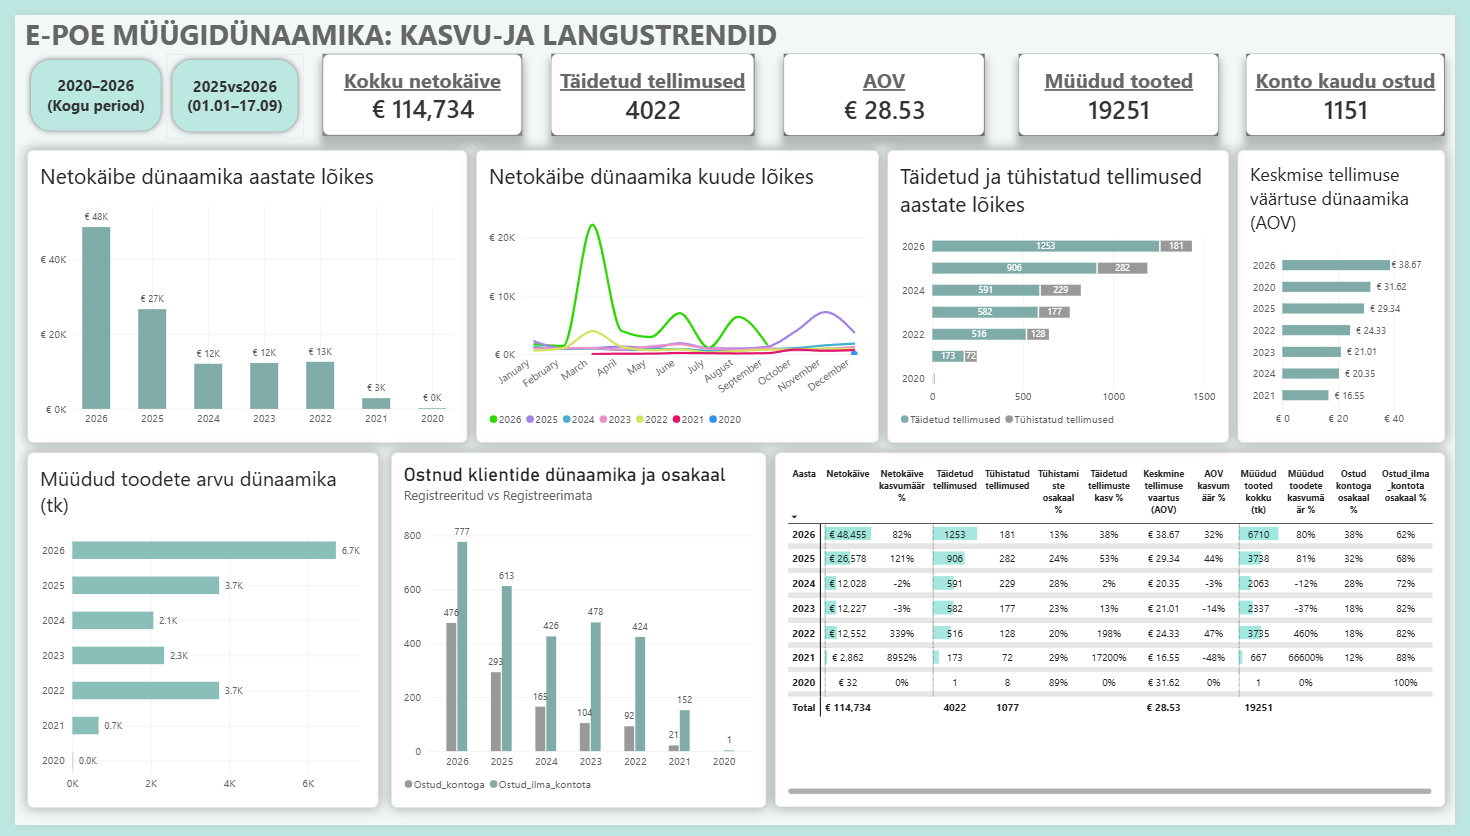

What the dashboard file says about the page in this screenshot:
{"tool":"powerbi","page":{"name":"E-POE MÜÜGIDÜNAAMIKA","canvas":[1920,1080],"ordinal":0},"visuals":[{"type":"cardVisual","fields":{"Data":["Arvutused.Täidetud tellimused"]},"box":[715.4,52.3,270.9,109.3],"z":2000},{"type":"cardVisual","fields":{"Data":["Arvutused.Muudud tooted kokku"]},"box":[1337.6,50.9,266.1,109.3],"z":5000},{"type":"cardVisual","fields":{"Data":["Arvutused.Ostud_kontoga"]},"box":[1641.2,52.3,264.6,109.3],"z":7000},{"type":"clusteredColumnChart","title":"Netokäibe dünaamika aastate lõikes","fields":{"Category":["public dim_date.year"],"Y":["Arvutused.Netokäive"]},"box":[16.7,180,586.7,390],"z":9000},{"type":"lineChart","title":"Netokäibe dünaamika kuude lõikes","fields":{"Category":["public dim_date.month_name"],"Series":["public dim_date.year"],"Y":["Arvutused.Netokäive"]},"box":[615,180,536.7,390],"z":10000},{"type":"clusteredBarChart","title":"Keskmise tellimuse väärtuse dünaamika (AOV)","fields":{"Category":["public dim_date.year"],"Y":["Arvutused.Keskmine tellimuse vaartus"]},"box":[1630,180,276.7,390],"z":11000},{"type":"clusteredBarChart","title":"Müüdud toodete arvu dünaamika (tk)","fields":{"Category":["public dim_date.year"],"Y":["Arvutused.Müüdud tooted kokku (tk)"]},"box":[17.5,584.1,468.3,473.3],"z":12000},{"type":"clusteredColumnChart","title":"Ostnud klientide dünaamika ja osakaal","fields":{"Category":["public dim_date.year"],"Y":["Arvutused.Ostud_kontoga","Arvutused.Ostud_ilma_kontota"]},"box":[501.6,584.1,500,473.3],"z":13000},{"type":"pivotTable","fields":{"Rows":["public dim_date.year"],"Values":["Arvutused.Netokäive","Arvutused.Netokäive kasvumäär %","Arvutused.Täidetud tellimused","Arvutused.Tühistatud tellimused","Arvutused.Tühistamiste osakaal %","Arvutused.Täidetud tellimuste kasv %","Arvutused.Keskmine tellimuse vaartus (AOV)","Arvutused.AOV kasvumäär %","Arvutused.Müüdud tooted kokku (tk)","Arvutused.Müüdud toodete kasvumäär %","Arvutused.Ostud_kontoga osakaal %","Arvutused.Ostud_ilma_kontota osakaal %"]},"box":[1012.7,584.1,893.7,473],"z":14000},{"type":"cardVisual","fields":{"Data":["Arvutused.Netokäive"]},"box":[410,52.3,266.1,109.3],"z":15000},{"type":"textbox","box":[410,68.3,266.1,58.2],"z":16000},{"type":"cardVisual","fields":{"Data":["Arvutused.Keskmine tellimuse vaartus"]},"box":[1025,50.9,267.7,109.3],"z":17000},{"type":"textbox","box":[1065.7,68,209.3,71.5],"z":18000},{"type":"actionButton","box":[13.1,52.3,189,110.5],"z":19000},{"type":"textbox","box":[1353.6,68.3,237,37.8],"z":19250},{"type":"textbox","box":[1641.2,68.1,264.6,50.7],"z":19375},{"type":"textbox","box":[715.4,68.3,270.4,52.3],"z":19437},{"type":"textbox","box":[385.7,84.1,12.7,42.9],"z":19468},{"type":"textbox","box":[916,80,70,118],"z":19500},{"type":"textbox","box":[13.3,0,1236.7,68.3],"z":19750},{"type":"actionButton","box":[202.1,52.3,183.2,112],"z":20000},{"type":"barChart","title":"Täidetud ja tühistatud tellimused aastate lõikes","fields":{"Category":["public dim_date.Year"],"Y":["Arvutused.Täidetud tellimused","Arvutused.Tühistatud tellimused"]},"box":[1163.3,180,455,390],"z":21000}]}

Visuals, with their boxes in screenshot pixels (x1, y1, x2, y2), scaled from the page's 1920x1080 canvas onto the 1470x836 screenshot:
cardVisual - Arvutused.Täidetud tellimused: (548,40,755,125)
cardVisual - Arvutused.Muudud tooted kokku: (1024,39,1228,124)
cardVisual - Arvutused.Ostud_kontoga: (1257,40,1459,125)
"Netokäibe dünaamika aastate lõikes" clusteredColumnChart: (13,139,462,441)
"Netokäibe dünaamika kuude lõikes" lineChart: (471,139,882,441)
"Keskmise tellimuse väärtuse dünaamika (AOV)" clusteredBarChart: (1248,139,1460,441)
"Müüdud toodete arvu dünaamika (tk)" clusteredBarChart: (13,452,372,819)
"Ostnud klientide dünaamika ja osakaal" clusteredColumnChart: (384,452,767,819)
pivotTable - public dim_date.year x Arvutused.Netokäive: (775,452,1460,818)
cardVisual - Arvutused.Netokäive: (314,40,518,125)
textbox: (314,53,518,98)
cardVisual - Arvutused.Keskmine tellimuse vaartus: (785,39,990,124)
textbox: (816,53,976,108)
actionButton: (10,40,155,126)
textbox: (1036,53,1218,82)
textbox: (1257,53,1459,92)
textbox: (548,53,755,93)
textbox: (295,65,305,98)
textbox: (701,62,755,153)
textbox: (10,0,957,53)
actionButton: (155,40,295,127)
"Täidetud ja tühistatud tellimused aastate lõikes" barChart: (891,139,1239,441)
